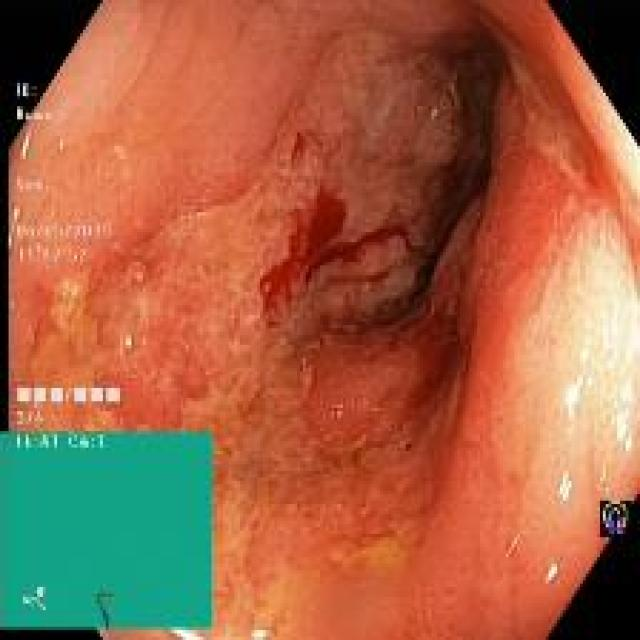ulcerative-colitis-grade-1: (10, 6, 502, 627)
